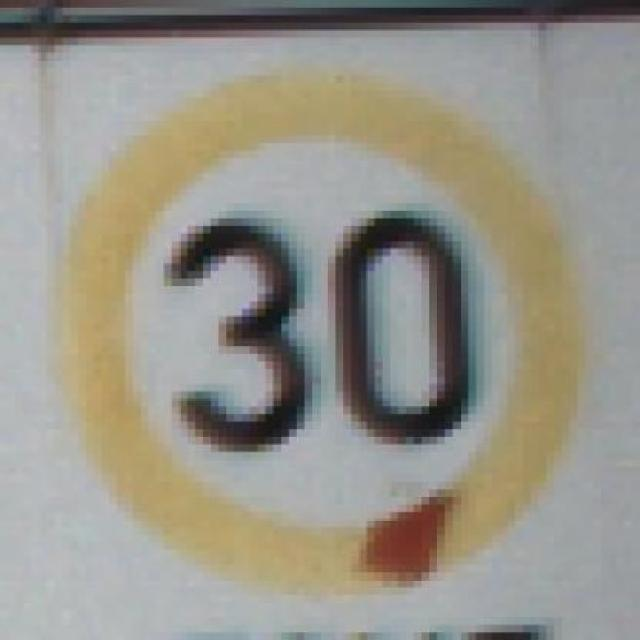Speed Limit 30 KMPh: (39, 60, 616, 603)
